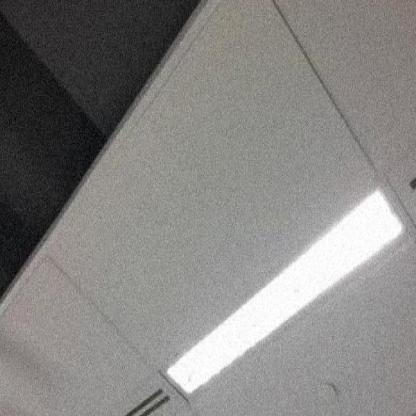light_on: (152, 171, 408, 415)
